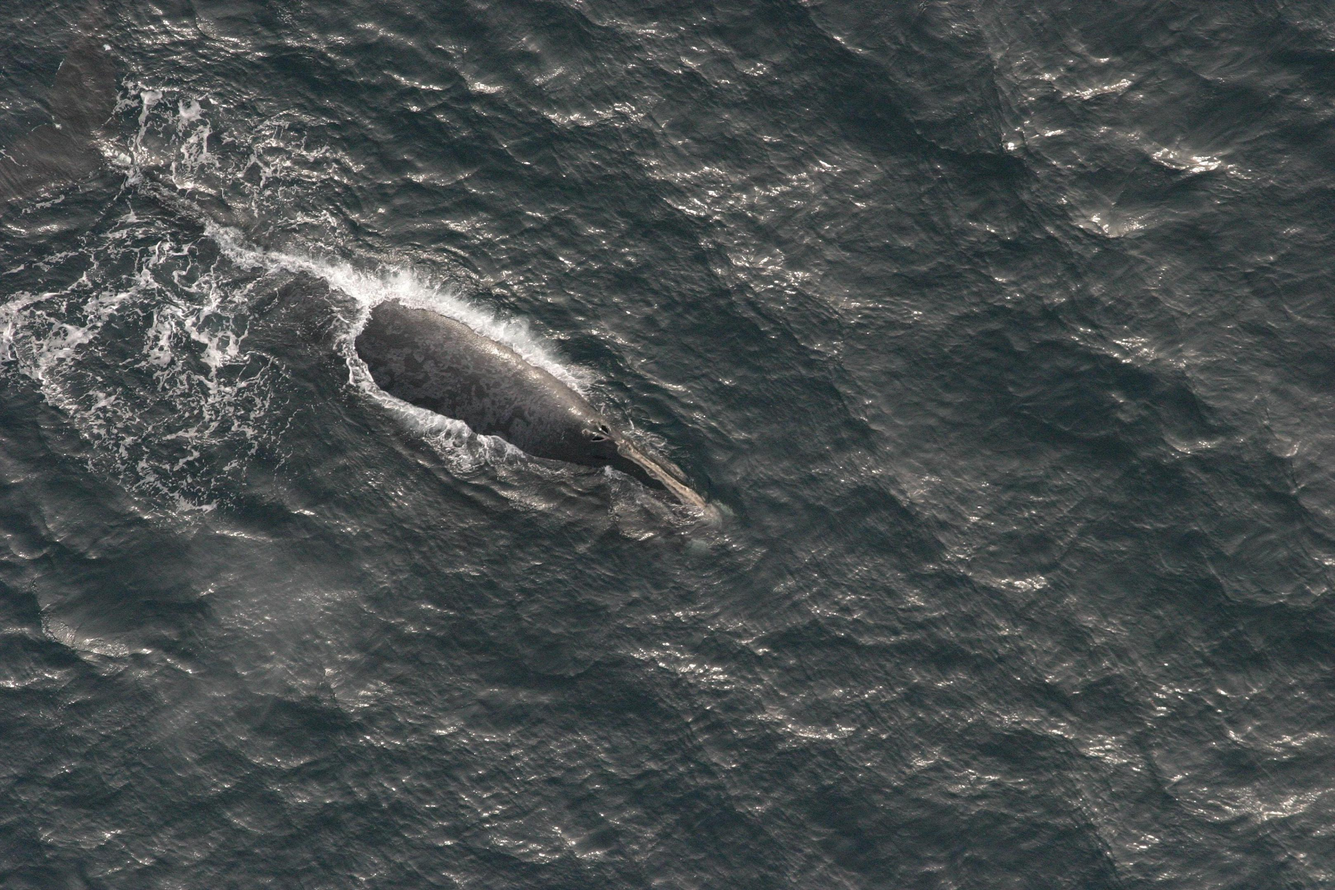whale: (149, 184, 749, 560)
